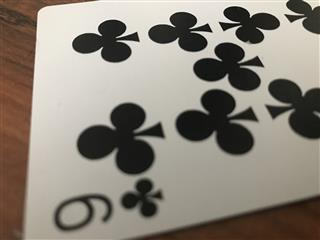NineOfClubs: (21, 1, 320, 240)
